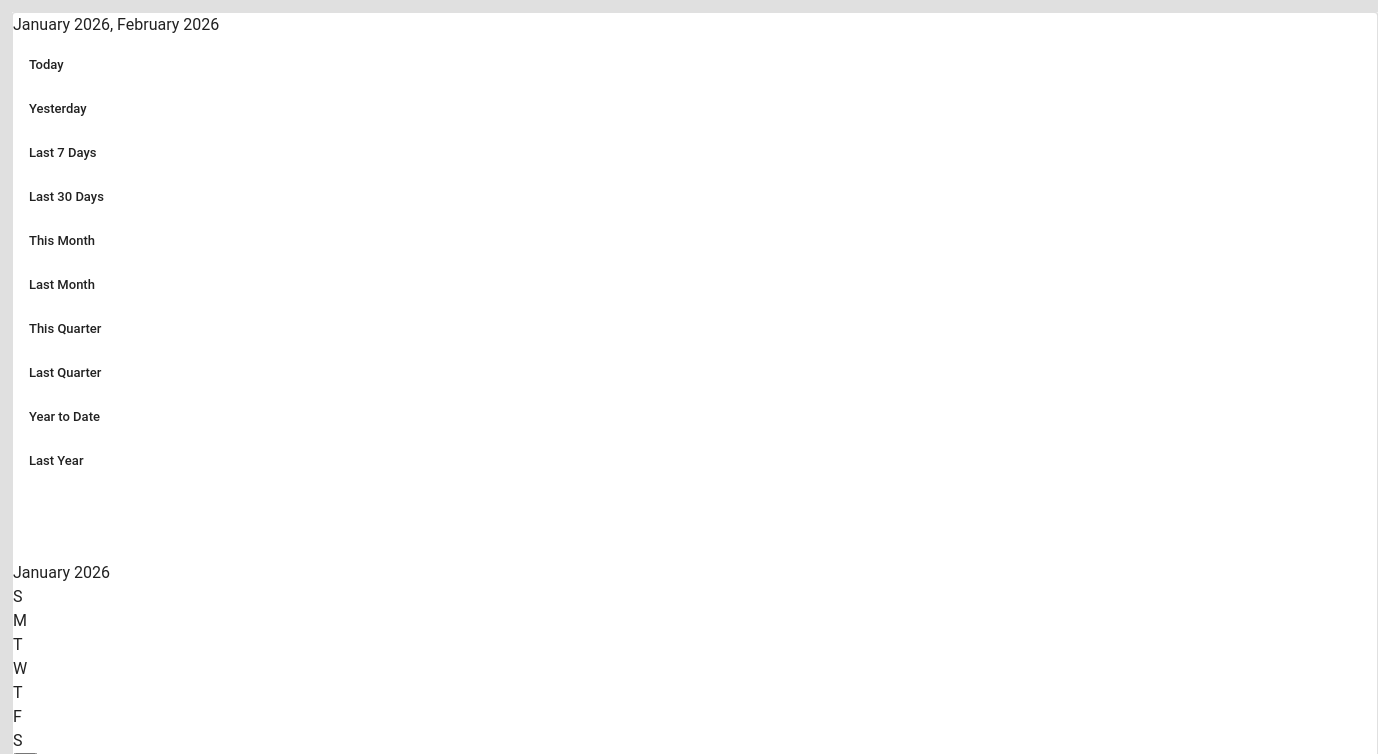
Scenario: VAdvancedDatePicker › does not reuse the clicked previous button as the next button after navigation
The image size is (1378, 754).
Click the button named "Previous month" at (37, 537), box [13,513,61,561]
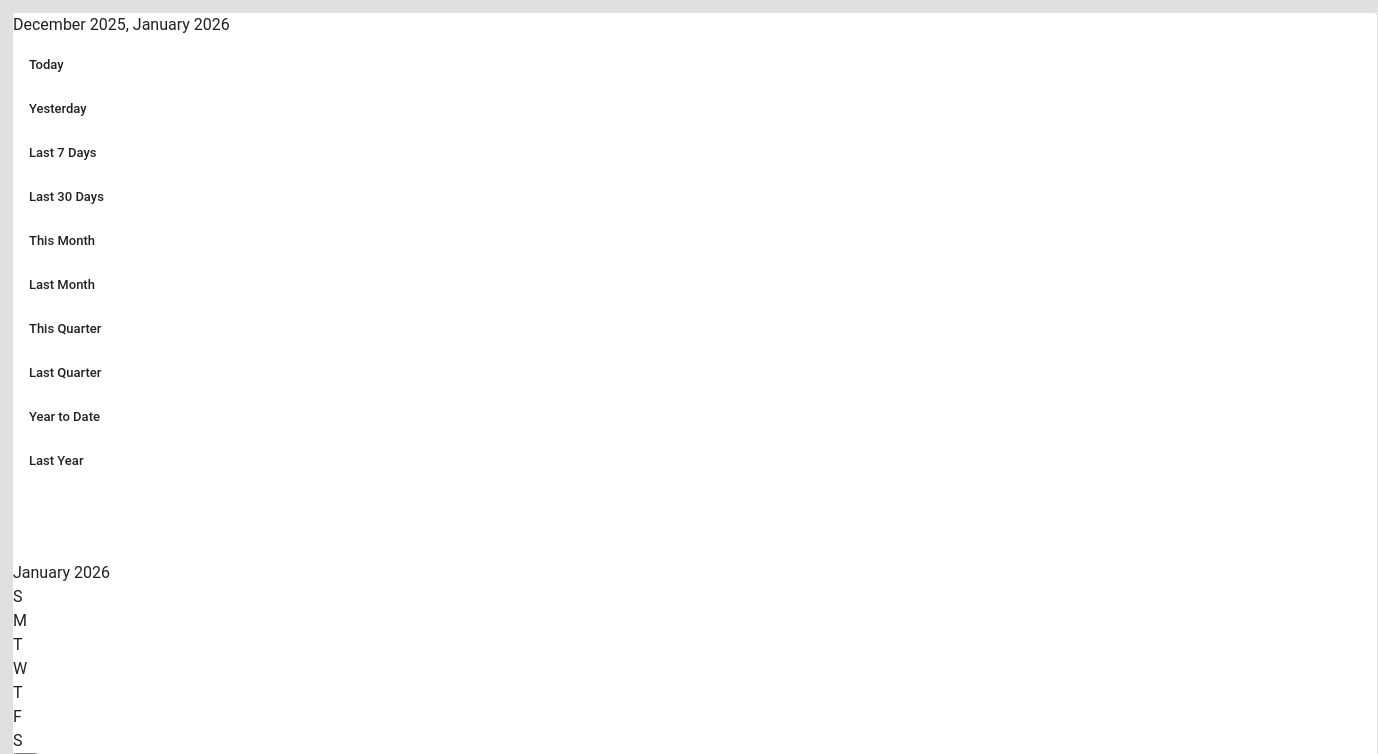
Check: the text "January 2026" is shown, box [13,15,230,34]
Check: the text "December 2025" is shown, box [13,15,230,34]
